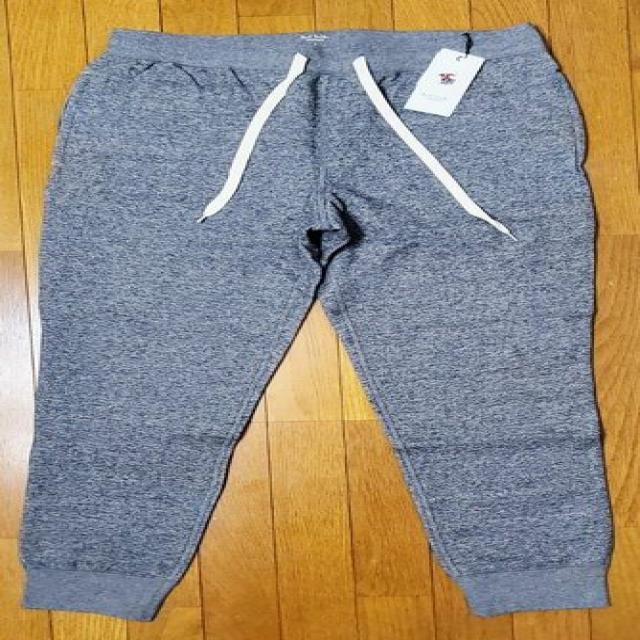long-pants: (19, 24, 617, 622)
